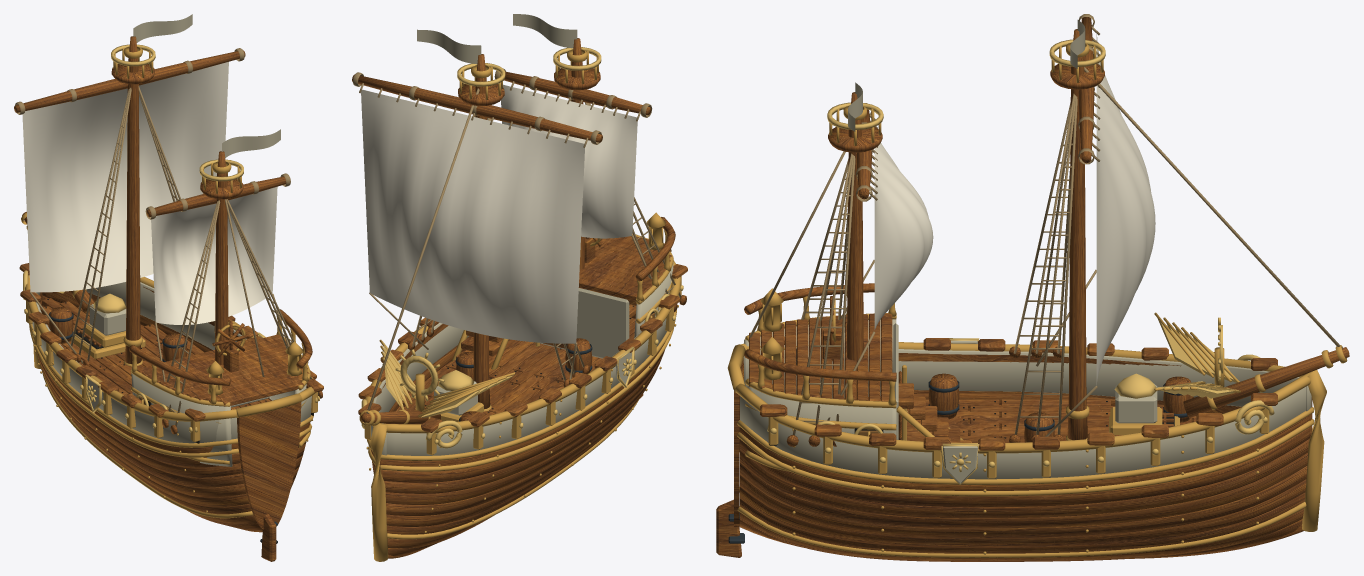
File: paladin-t2.glb
The picture shows the model from 3 angles, left to right: view 1: azimuth 30°, elevation 25°; view 2: azimuth 150°, elevation 25°; view 3: azimuth 270°, elevation 25°; orthographic projection. The views are drawn at different scales.
Visible parts, largest first — view 1: Fleet Carved oak.008, Sail_0.007, Fleet Aged brass.008, Sail_1.004, Fleet Class enamel.008, Fleet Braided hemp.008, Fleet Brass edge.008, Pennant_0.007, Pennant_1.004; view 2: Sail_0.007, Fleet Carved oak.008, Fleet Aged brass.008, Fleet Class enamel.008, Sail_1.004, Fleet Brass edge.008, Fleet Braided hemp.008, Pennant_1.004, Pennant_0.007; view 3: Fleet Carved oak.008, Fleet Aged brass.008, Fleet Class enamel.008, Fleet Braided hemp.008, Sail_0.007, Sail_1.004, Fleet Brass edge.008.
Part boxes in pixels (<box>): Fleet Carved oak.008: <box>14,36,323,561</box>; Sail_0.007: <box>22,62,228,292</box>; Fleet Aged brass.008: <box>21,46,317,518</box>; Sail_1.004: <box>151,186,277,324</box>; Fleet Class enamel.008: <box>32,282,311,466</box>; Fleet Braided hemp.008: <box>15,48,318,426</box>; Fleet Brass edge.008: <box>23,44,319,432</box>; Pennant_0.007: <box>133,14,192,42</box>; Pennant_1.004: <box>222,129,280,157</box>; Sail_0.007: <box>361,89,584,343</box>; Fleet Carved oak.008: <box>352,38,687,558</box>; Fleet Aged brass.008: <box>359,49,681,561</box>; Fleet Class enamel.008: <box>370,262,673,455</box>; Sail_1.004: <box>501,84,637,238</box>; Fleet Brass edge.008: <box>361,47,683,448</box>; Fleet Braided hemp.008: <box>352,68,680,413</box>; Pennant_1.004: <box>513,14,577,48</box>; Pennant_0.007: <box>417,29,481,64</box>; Fleet Carved oak.008: <box>716,17,1349,561</box>; Fleet Aged brass.008: <box>727,42,1347,557</box>; Fleet Class enamel.008: <box>740,319,1311,483</box>; Fleet Braided hemp.008: <box>749,14,1342,436</box>; Sail_0.007: <box>1096,32,1155,385</box>; Sail_1.004: <box>874,143,933,329</box>; Fleet Brass edge.008: <box>767,39,1274,485</box>.
Bounding box in the file's own units: 2.42 × 4.37 × 4.64.
9 materials, 1 textured.
